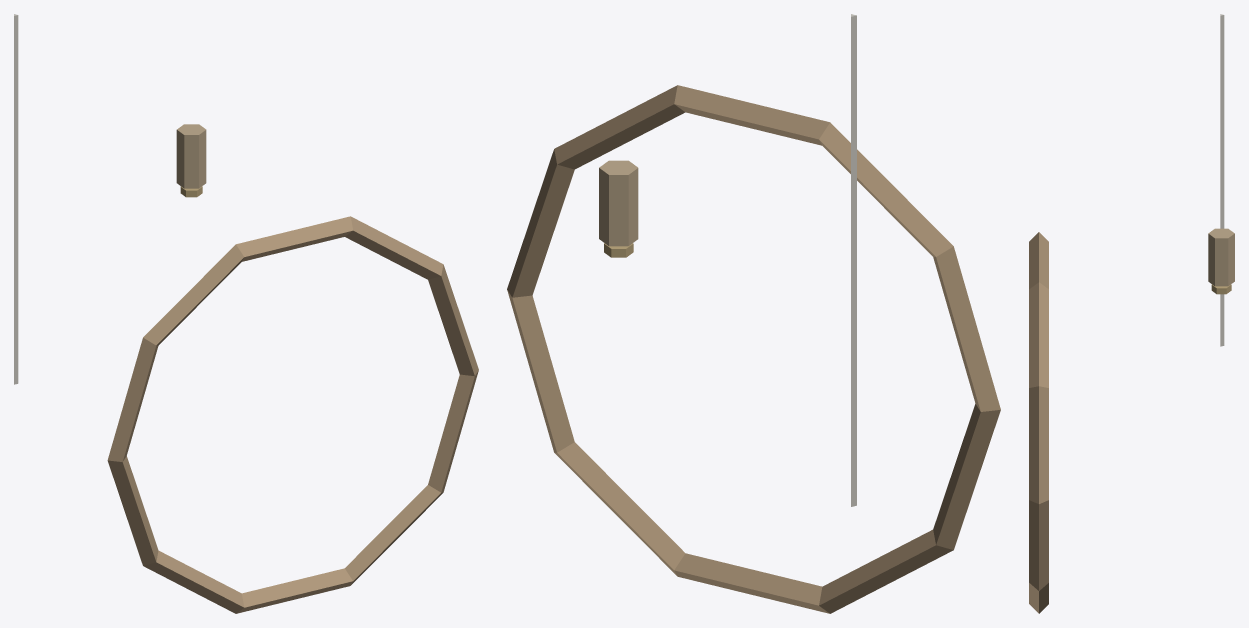
File: longbow.glb
The picture shows the model from 3 angles, left to right: view 1: azimuth 30°, elevation 25°; view 2: azimuth 150°, elevation 25°; view 3: azimuth 270°, elevation 25°; orthographic projection. The views are drawn at different scales.
Visible parts, largest first — view 1: longbow; view 2: longbow; view 3: longbow.
Part boxes in pixels (box(x1,y1,x2,y2)): longbow: box(14, 14, 478, 613); longbow: box(507, 14, 1000, 613); longbow: box(1029, 14, 1234, 613).
Bounding box in the file's own units: 1.16 × 1.65 × 0.62.
